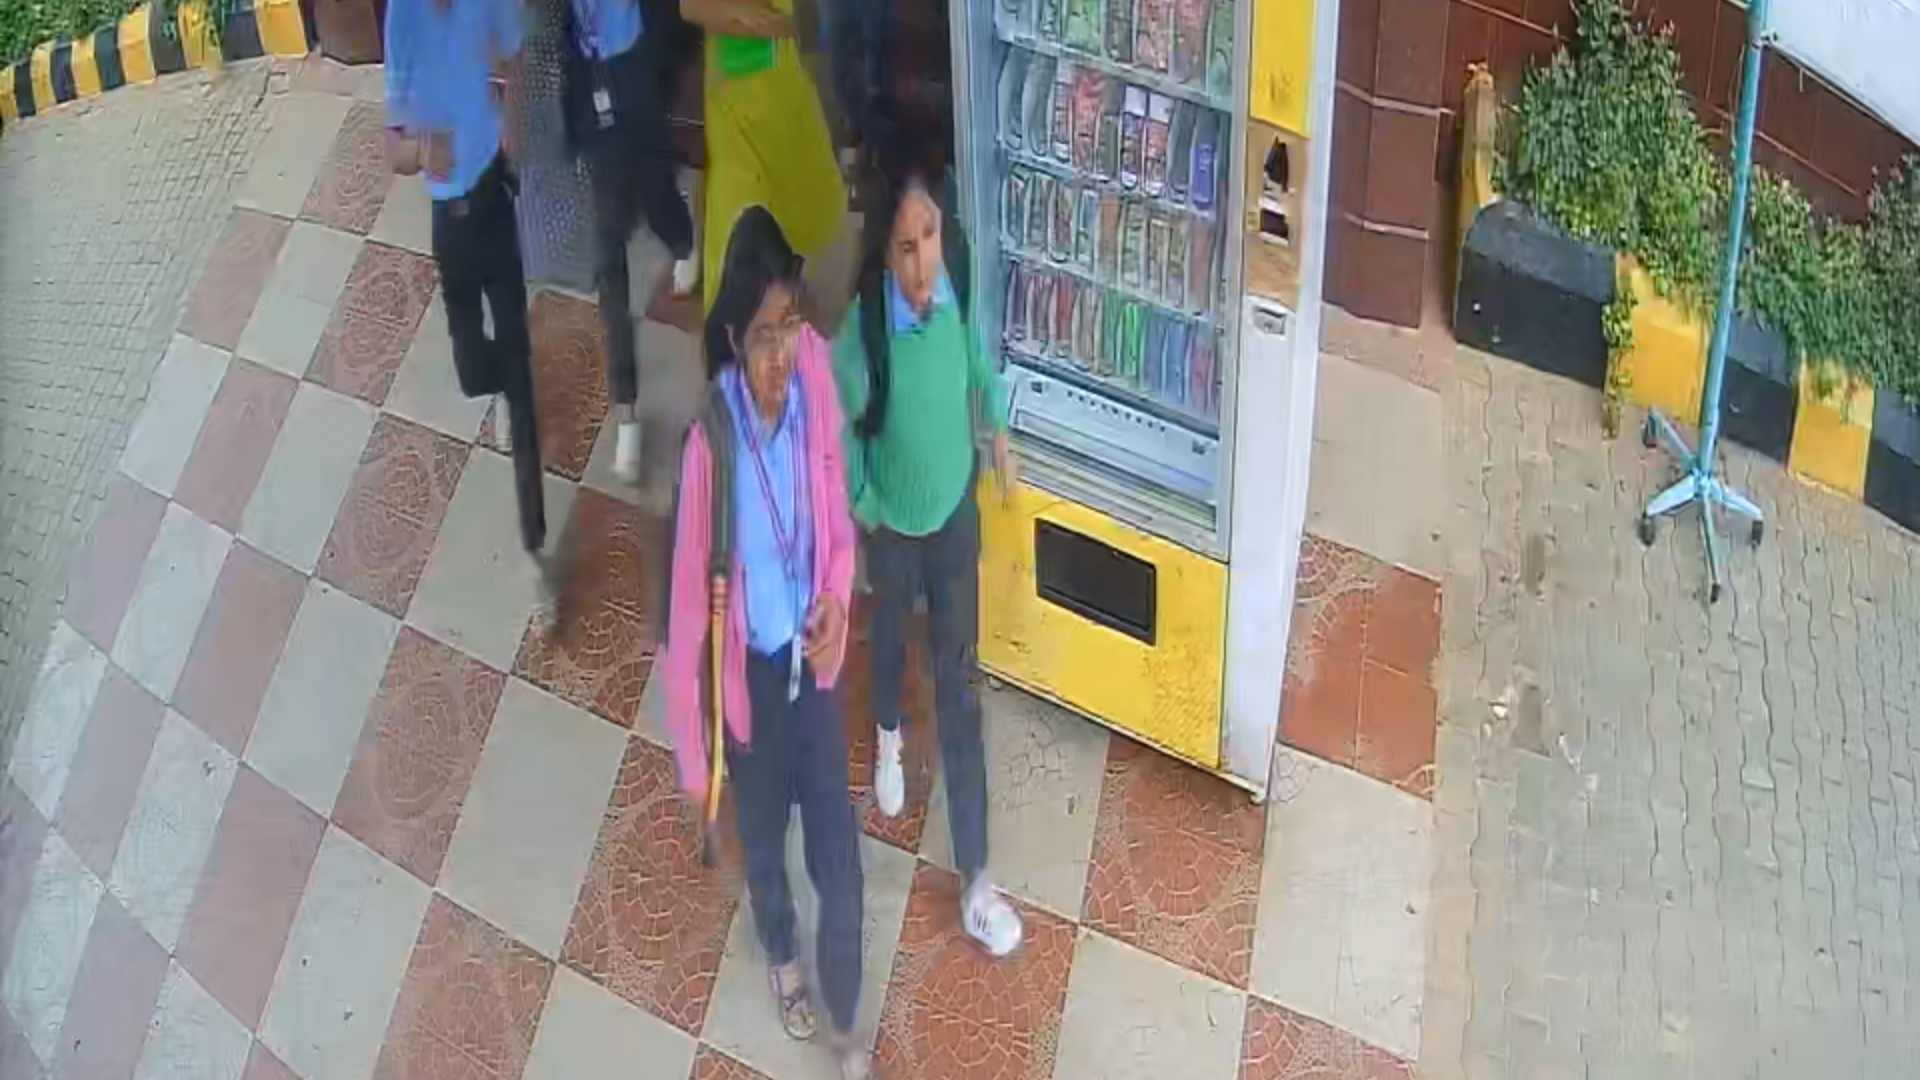intruder: (843, 171, 1036, 996)
not intruder: (670, 208, 881, 1080)
